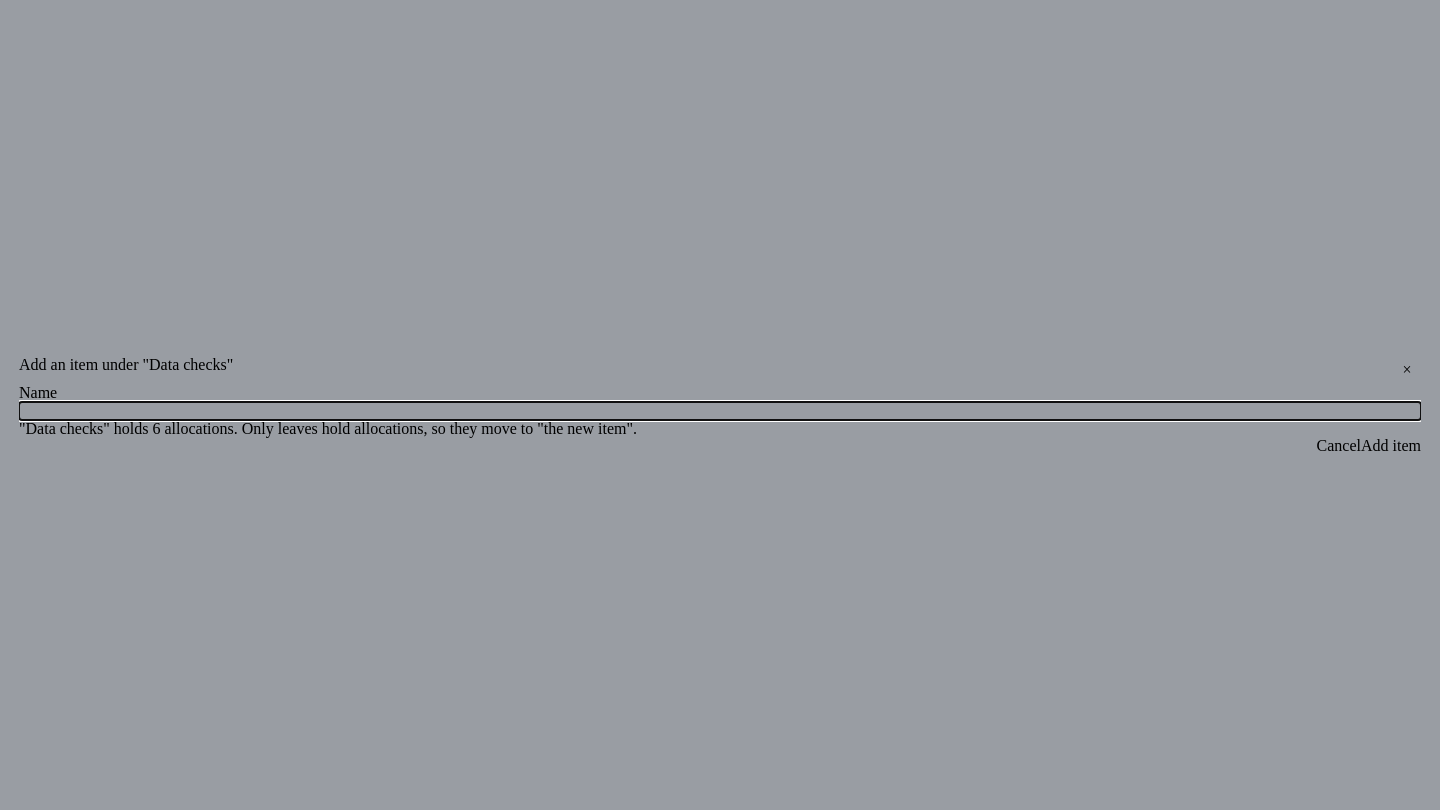
it: AddChildItem › says before anything changes that a leaf’s allocations move to the new item (D9)
The width and height of the screenshot is (1440, 810).
Expected: the text "holds 6 allocations" shows "\"Data checks\" holds 6 allocations. Only leaves hold allocations, so they move to \"the new item\".", x1=19 y1=420 x2=637 y2=437
Type "Reconciliation" into the field labelled "Name" at (720, 411), box x1=19 y1=402 x2=1421 y2=420
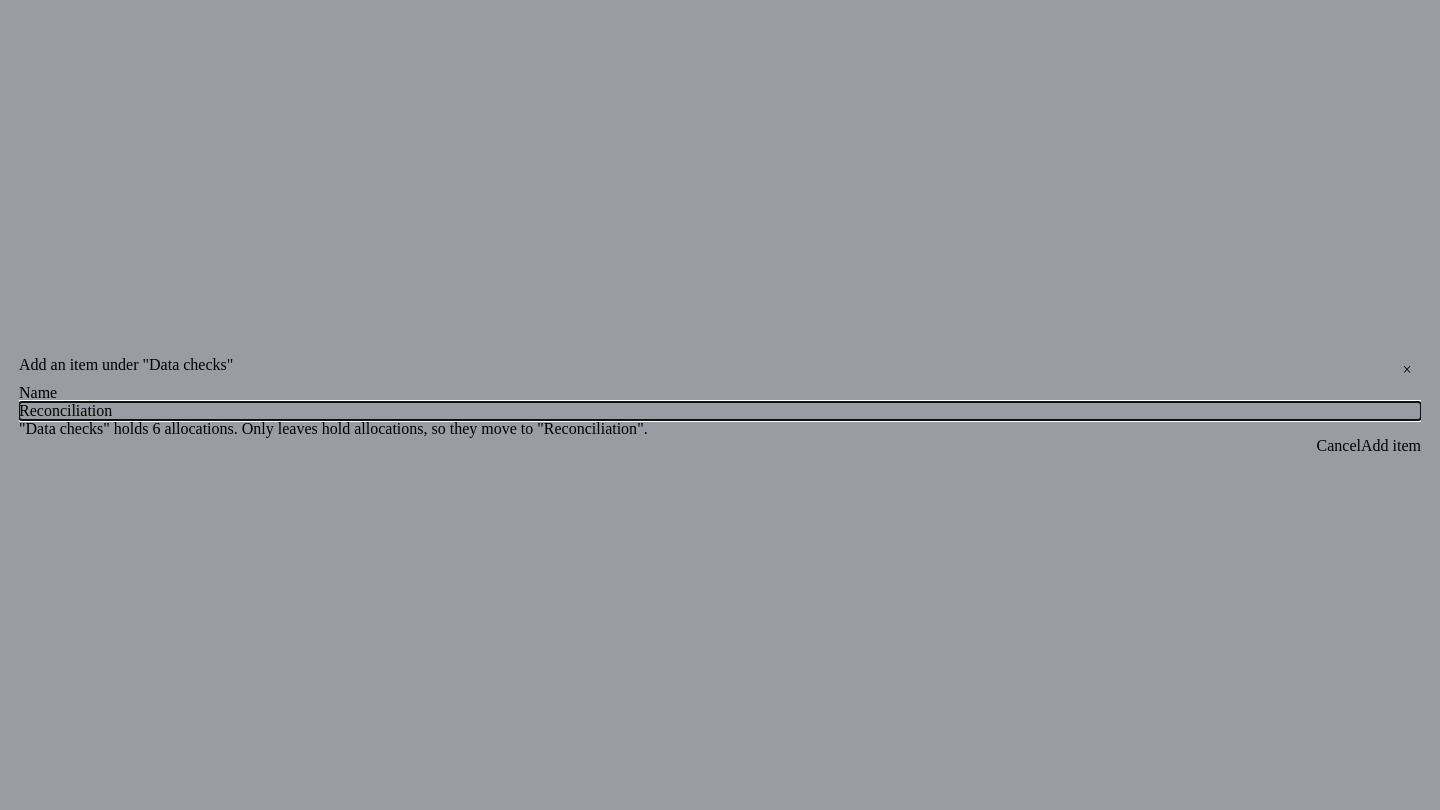
Expected: the text "holds 6 allocations" shows "\"Data checks\" holds 6 allocations. Only leaves hold allocations, so they move to \"Reconciliation\".", x1=19 y1=420 x2=648 y2=437
